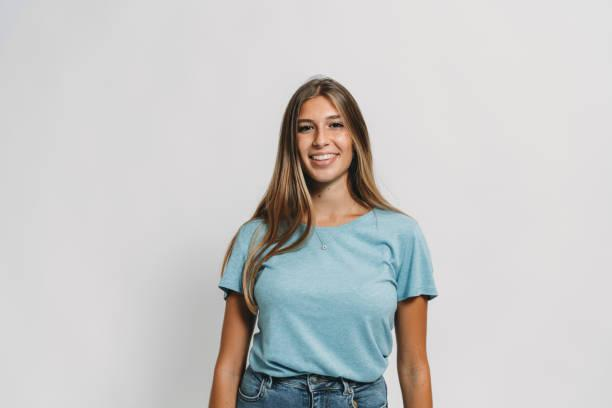no_goggle: (291, 114, 360, 136)
no_helmet: (281, 68, 362, 122)
no_vest: (223, 189, 441, 408)
